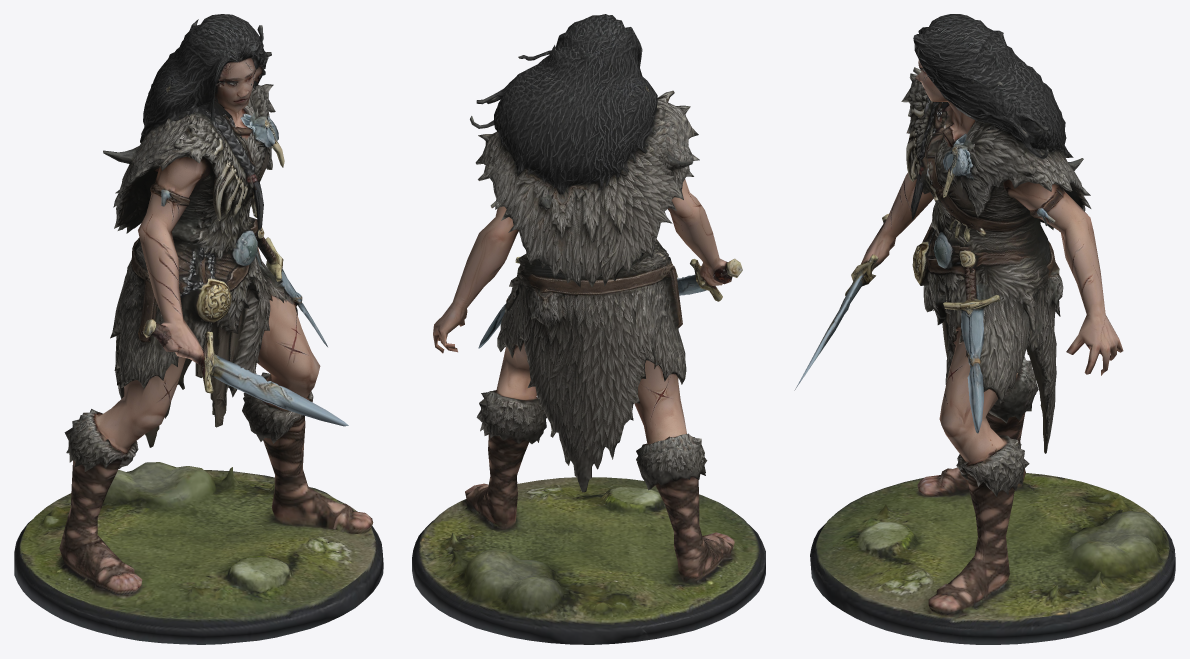
The model's file is barbarian_def_female.glb.
3 views of the same model, side by side, from view 1: azimuth 30°, elevation 25°; view 2: azimuth 150°, elevation 25°; view 3: azimuth 270°, elevation 25° (orthographic). The views are drawn at different scales.
Parts seen in each view (by area): view 1: tripo_node_28ba35a4-6ada-4747-beac-c0a5d9de0731; view 2: tripo_node_28ba35a4-6ada-4747-beac-c0a5d9de0731; view 3: tripo_node_28ba35a4-6ada-4747-beac-c0a5d9de0731.
Part boxes in pixels (box(x1,y1,x2,y2)): tripo_node_28ba35a4-6ada-4747-beac-c0a5d9de0731: box(14, 14, 383, 644); tripo_node_28ba35a4-6ada-4747-beac-c0a5d9de0731: box(412, 14, 765, 644); tripo_node_28ba35a4-6ada-4747-beac-c0a5d9de0731: box(794, 14, 1175, 644).
Size of the model in its own units: 0.6016 by 0.998 by 0.6274.
1 material, 1 textured.
